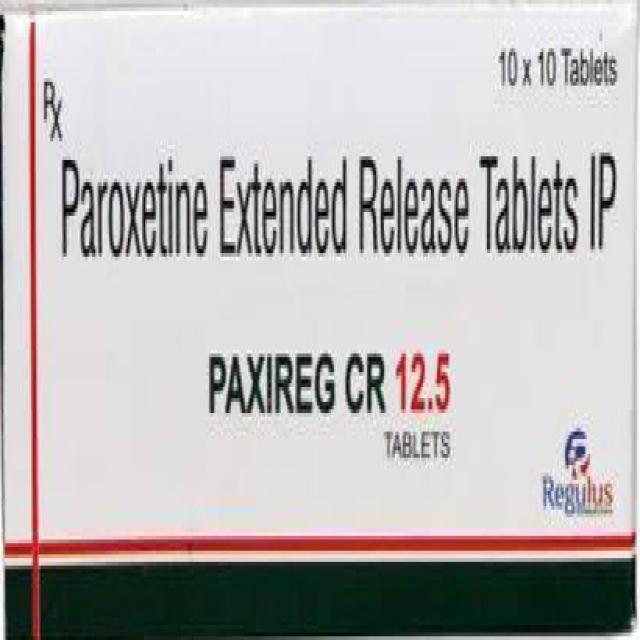drug-name: (202, 351, 453, 416)
